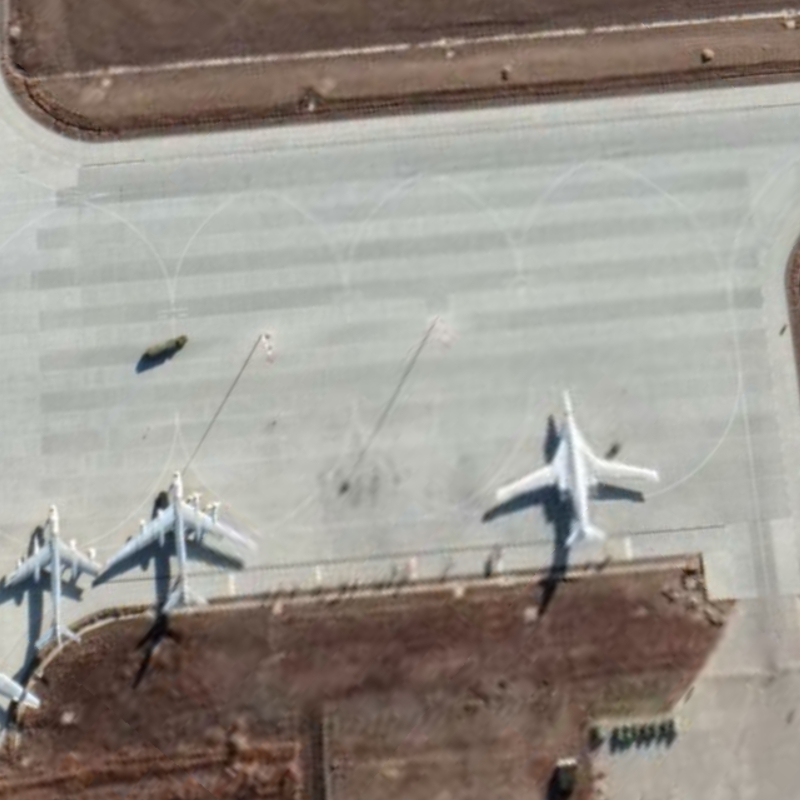A17: (108, 468, 257, 615), (1, 501, 107, 651)
A6: (492, 387, 663, 550)
